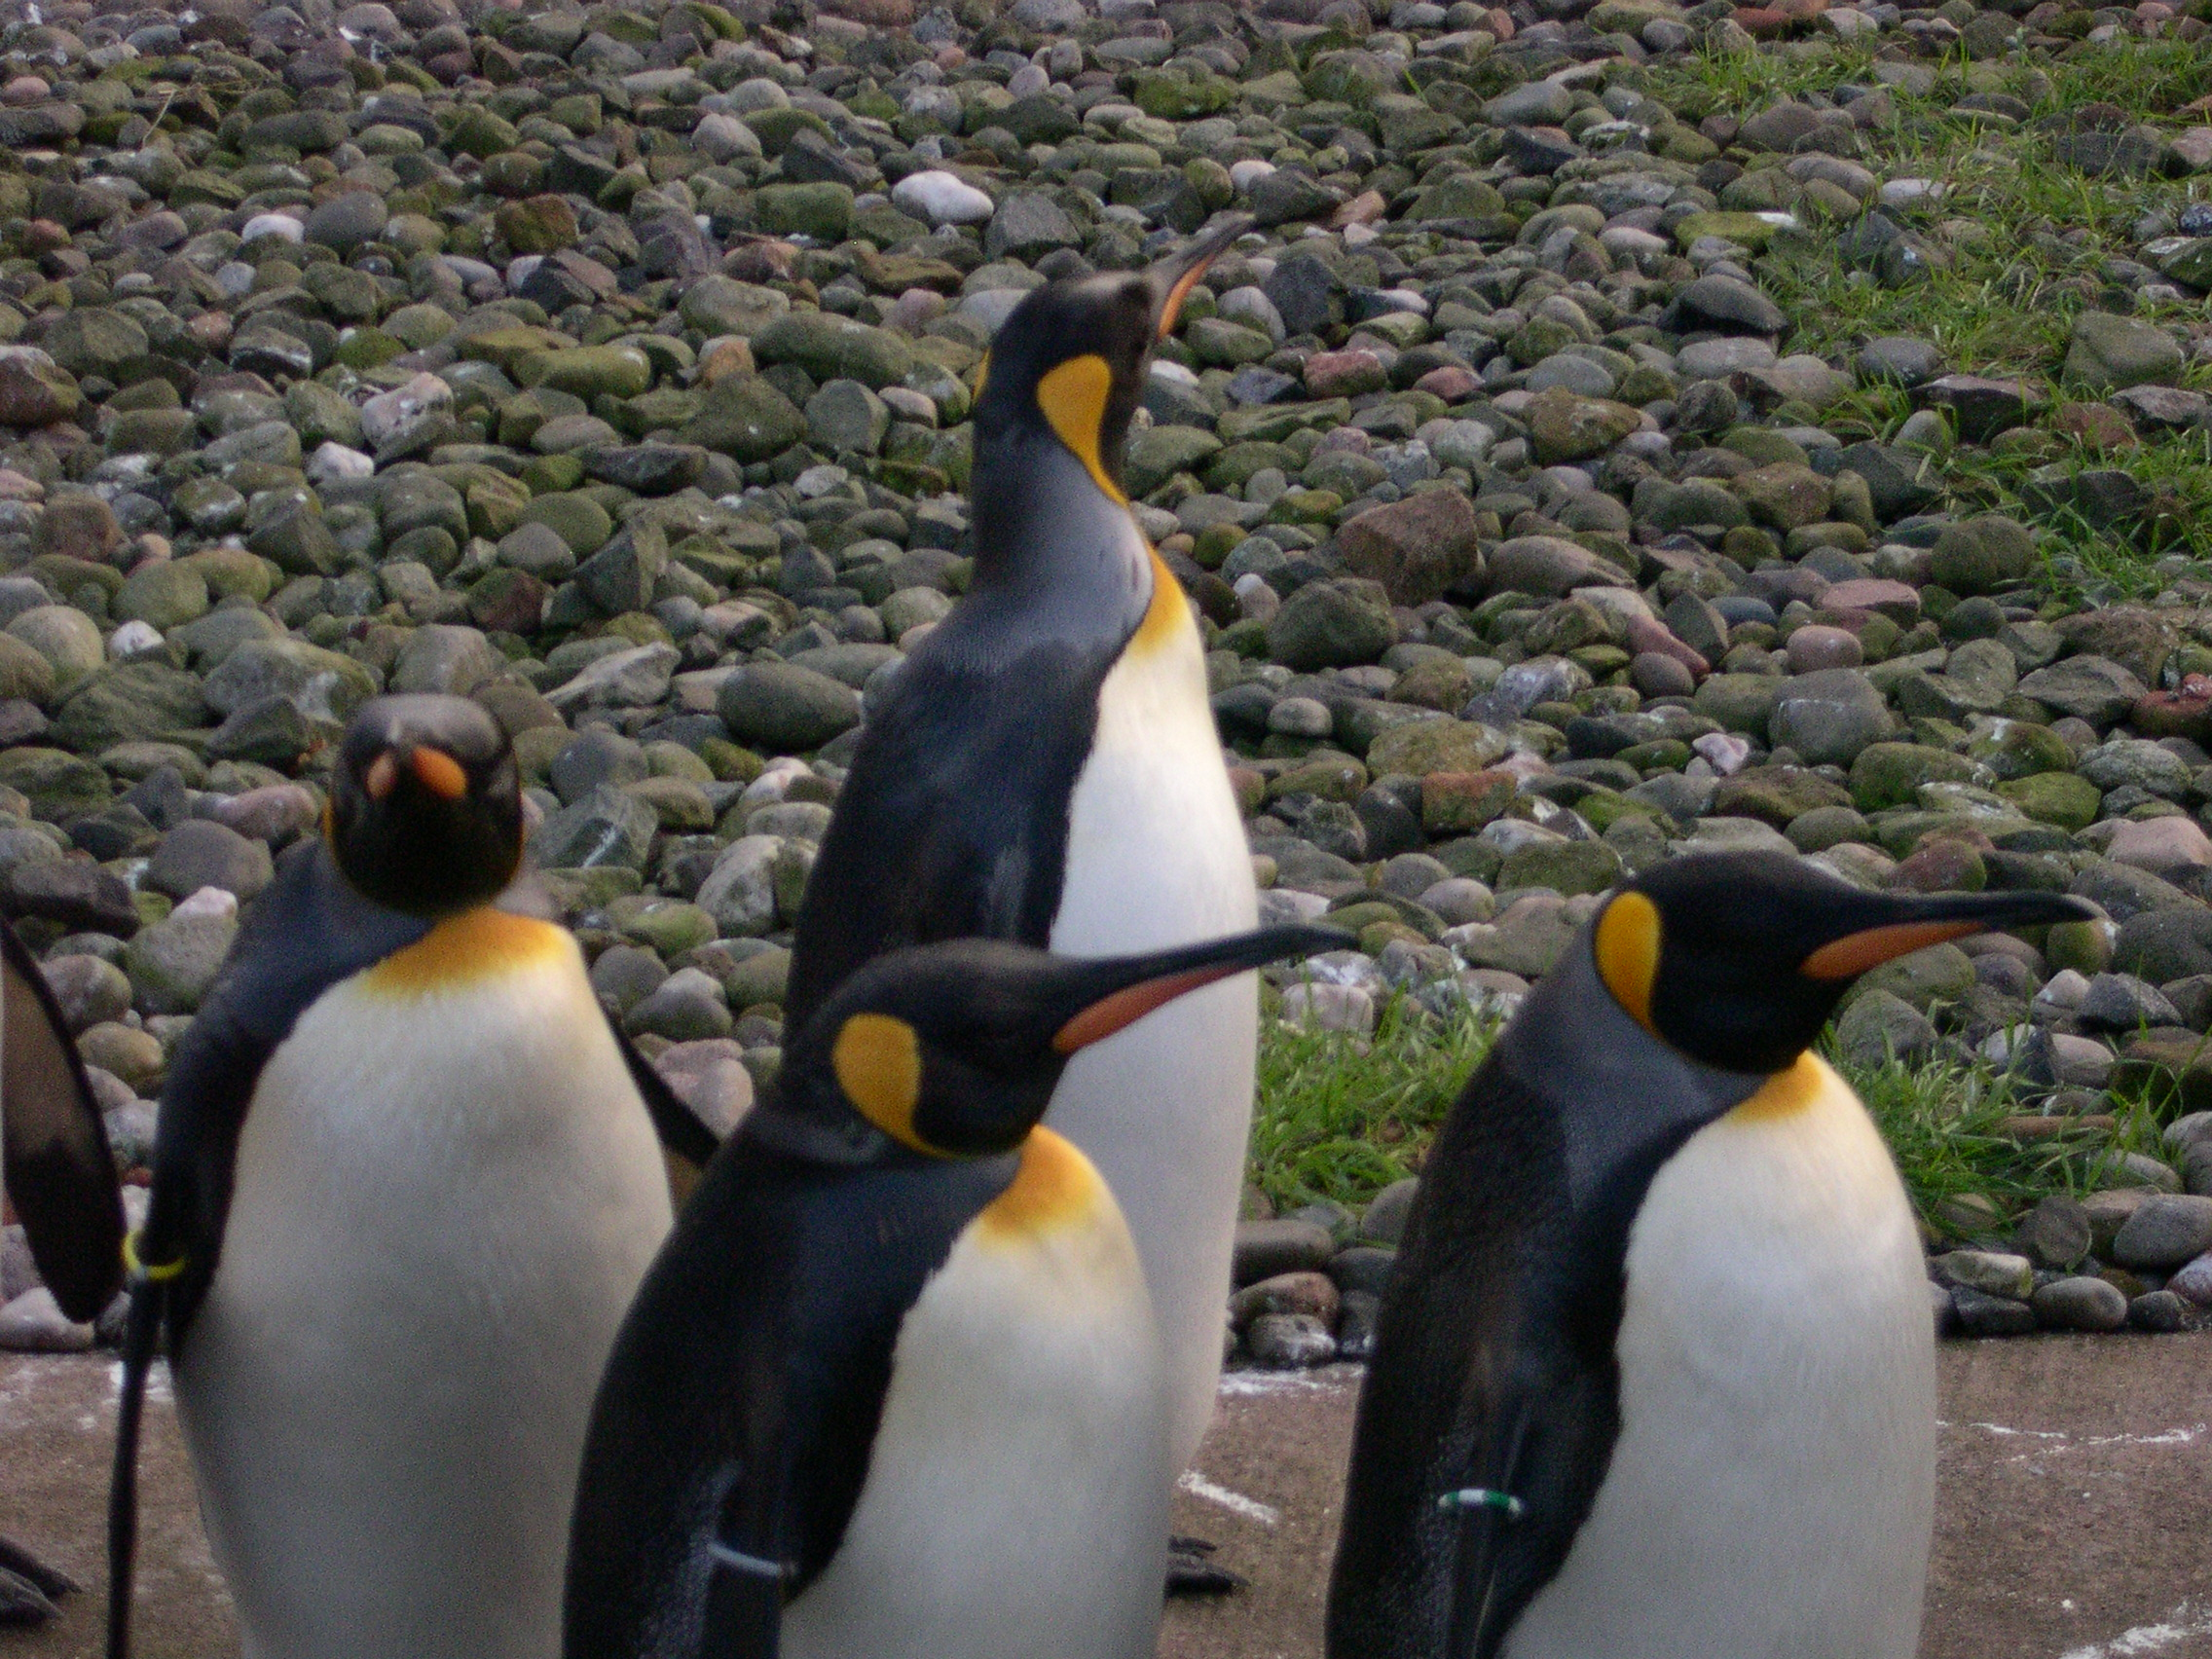penguin: (2, 692, 744, 1659), (784, 218, 1273, 1595), (1348, 845, 2097, 1659), (596, 913, 1386, 1659)
